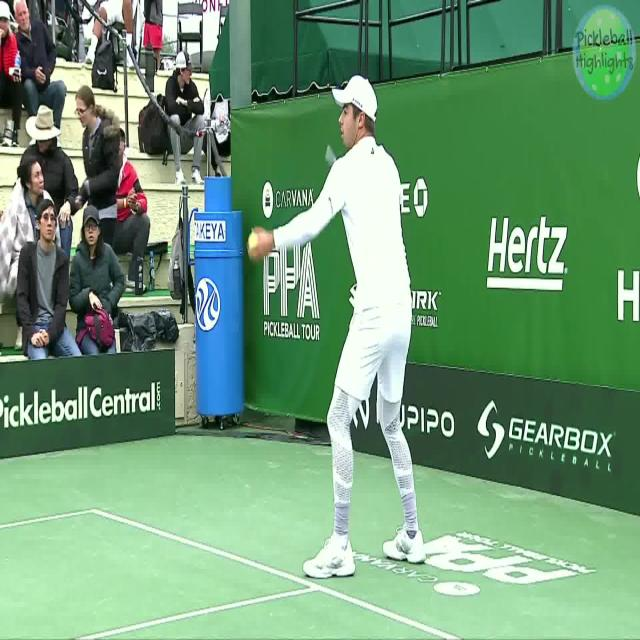ball: (244, 227, 264, 253)
